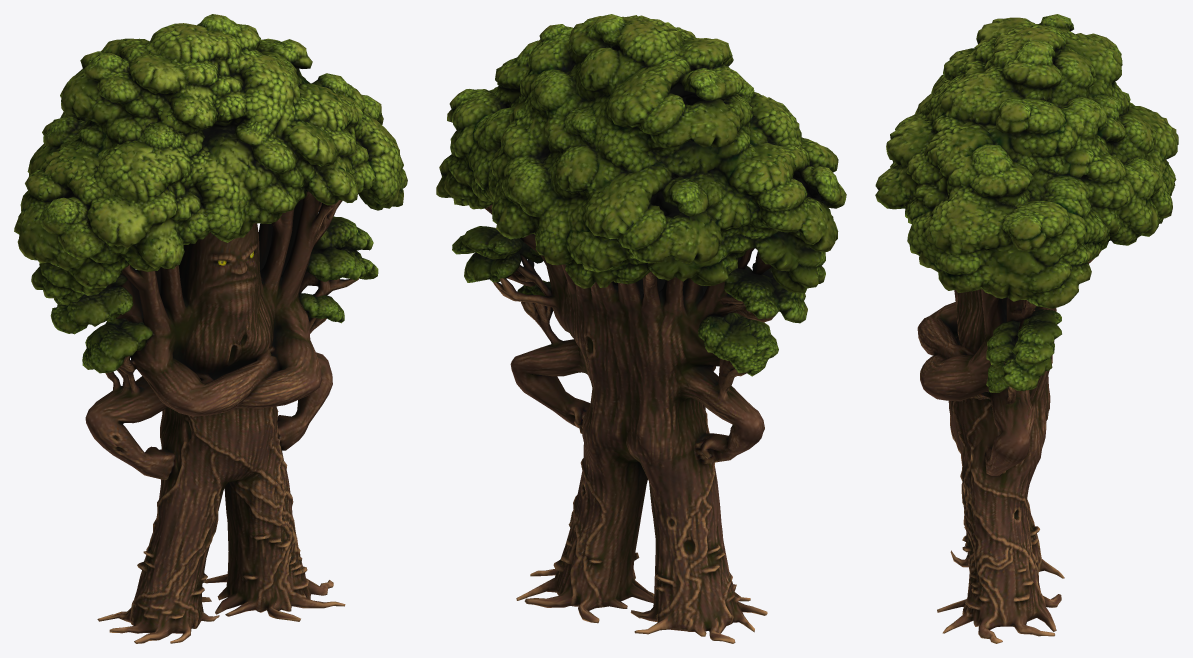
Rendered from Treant.glb.
The picture shows the model from 3 angles, left to right: view 1: azimuth 30°, elevation 25°; view 2: azimuth 150°, elevation 25°; view 3: azimuth 270°, elevation 25°; orthographic projection. The views are drawn at different scales.
Parts seen in each view (by area): view 1: leaves_low.001, body_low.001; view 2: leaves_low.001, body_low.001; view 3: leaves_low.001, body_low.001.
Boxes of the visible parts, box(x1,y1,x2,y2) form: leaves_low.001: box(14, 14, 407, 373); body_low.001: box(85, 191, 358, 643); leaves_low.001: box(436, 14, 846, 376); body_low.001: box(485, 204, 775, 643); leaves_low.001: box(875, 14, 1178, 392); body_low.001: box(917, 251, 1100, 643).
Size of the model in its own units: 4.2 by 6.37 by 3.14.
1 material, 1 textured.
